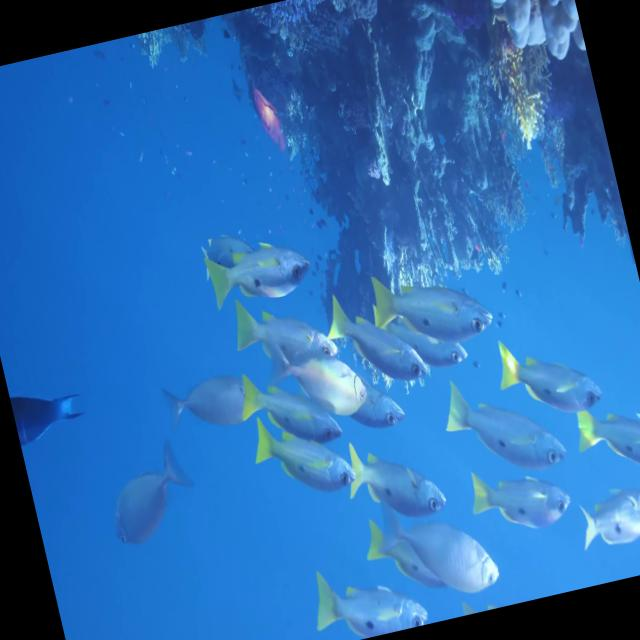fish: (367, 463, 507, 624), (440, 367, 576, 498), (359, 252, 501, 376), (92, 427, 210, 568), (318, 273, 439, 410), (332, 418, 452, 538), (300, 538, 437, 640), (240, 398, 364, 506), (490, 316, 608, 426), (464, 446, 580, 554), (262, 329, 374, 435), (200, 233, 320, 329), (374, 290, 474, 404), (157, 356, 250, 451), (567, 385, 640, 495), (566, 474, 640, 569), (9, 380, 89, 462)
